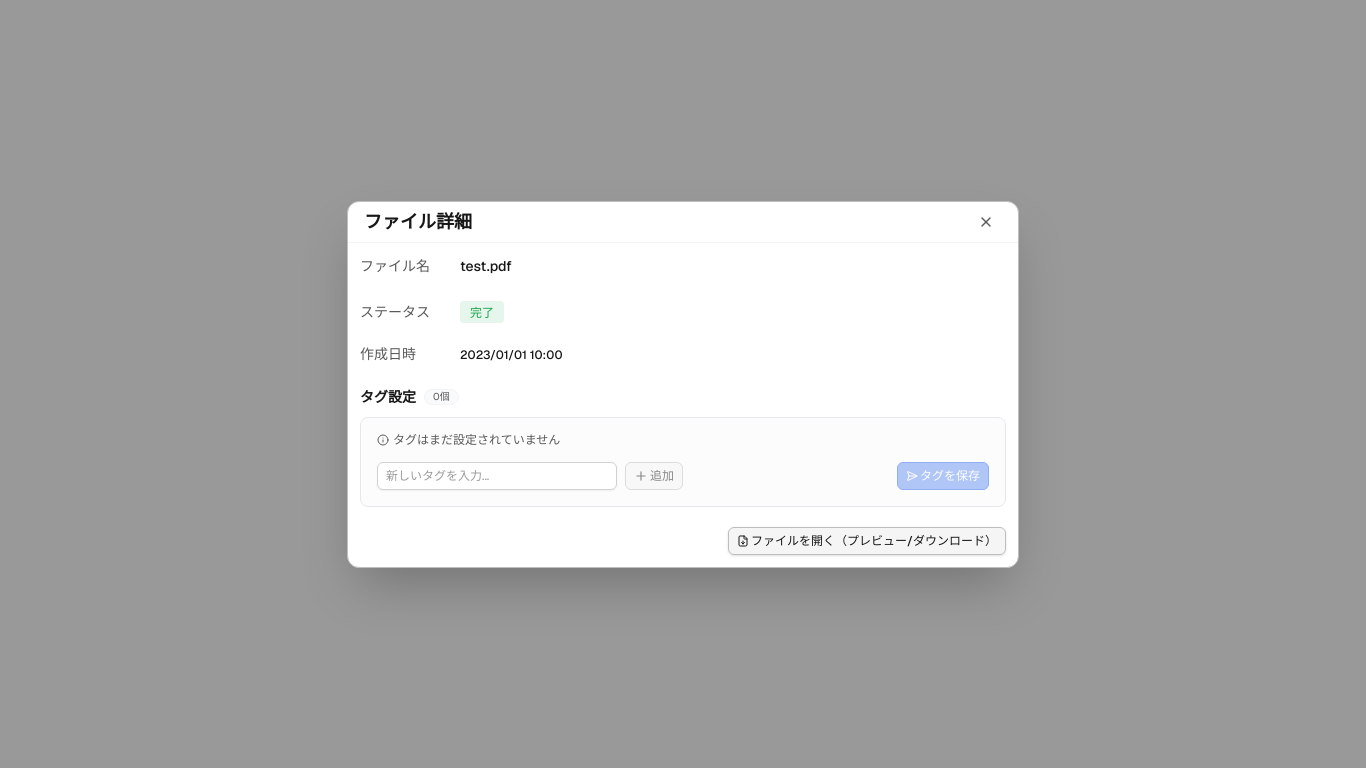
Test case: DocumentDetailsModal › handles tag addition
Type "new-tag" into the field with placeholder "新しいタグを入力...".
click(497, 476); type("new-tag")  # box 377,462 -> 617,490
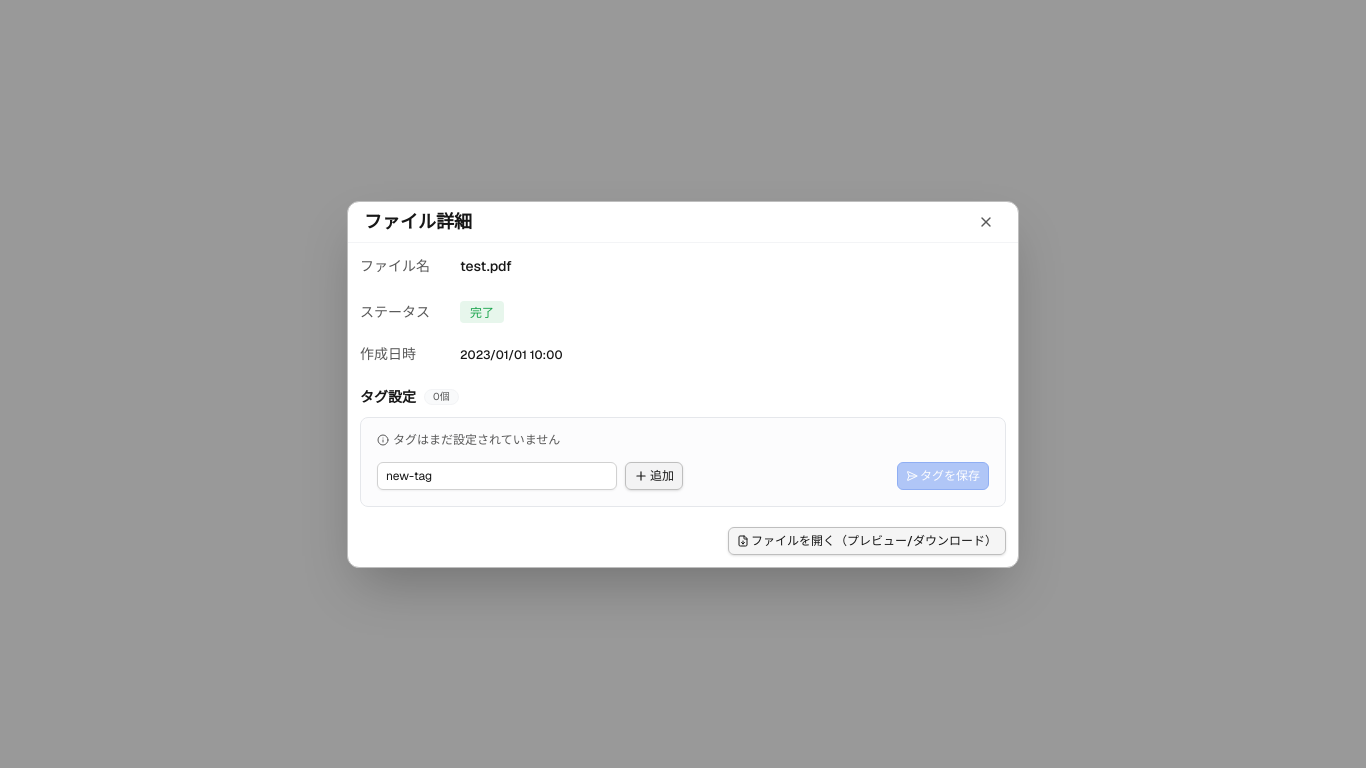
Click the button "追加".
click(654, 476)  # box 625,462 -> 683,490
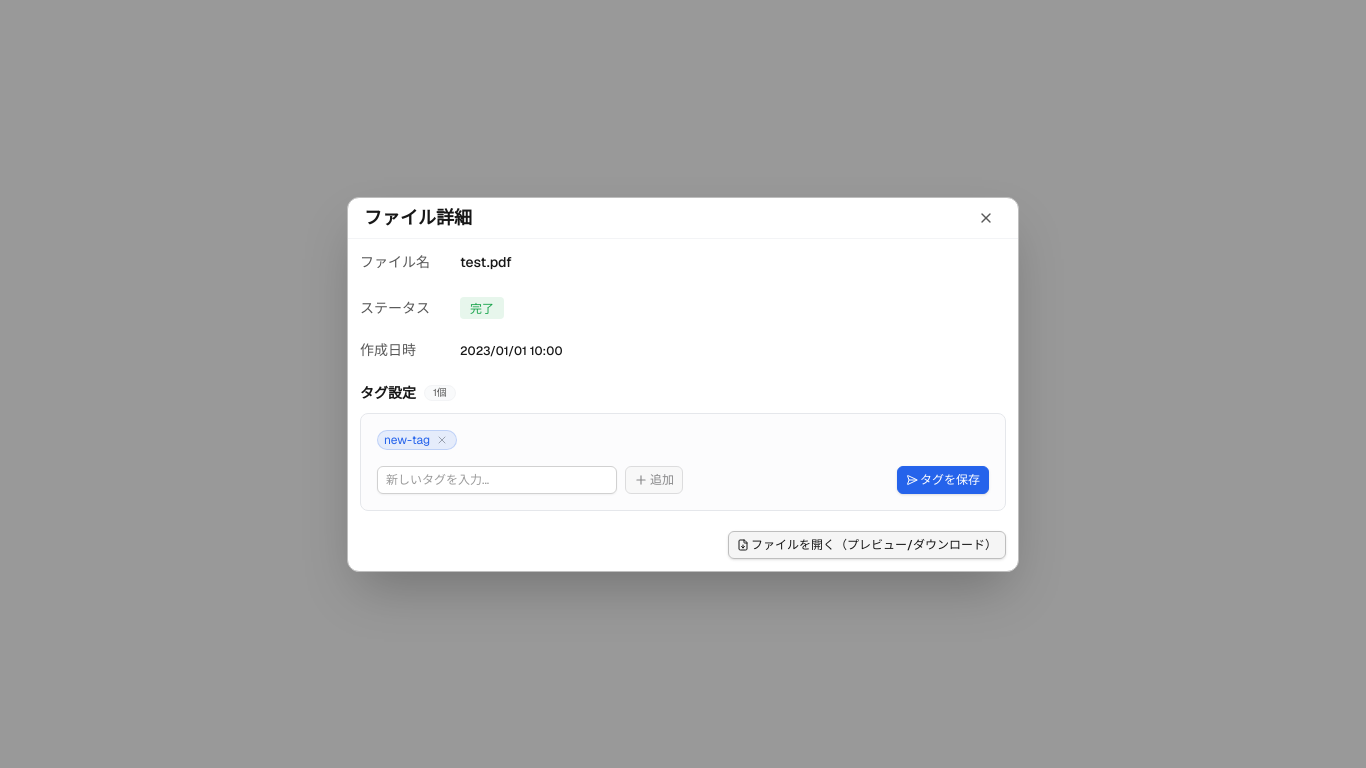
Check: the text "new-tag" is shown, box 377,430 -> 457,450
Check: the field with placeholder "新しいタグを入力..." is empty, box 377,466 -> 617,494
